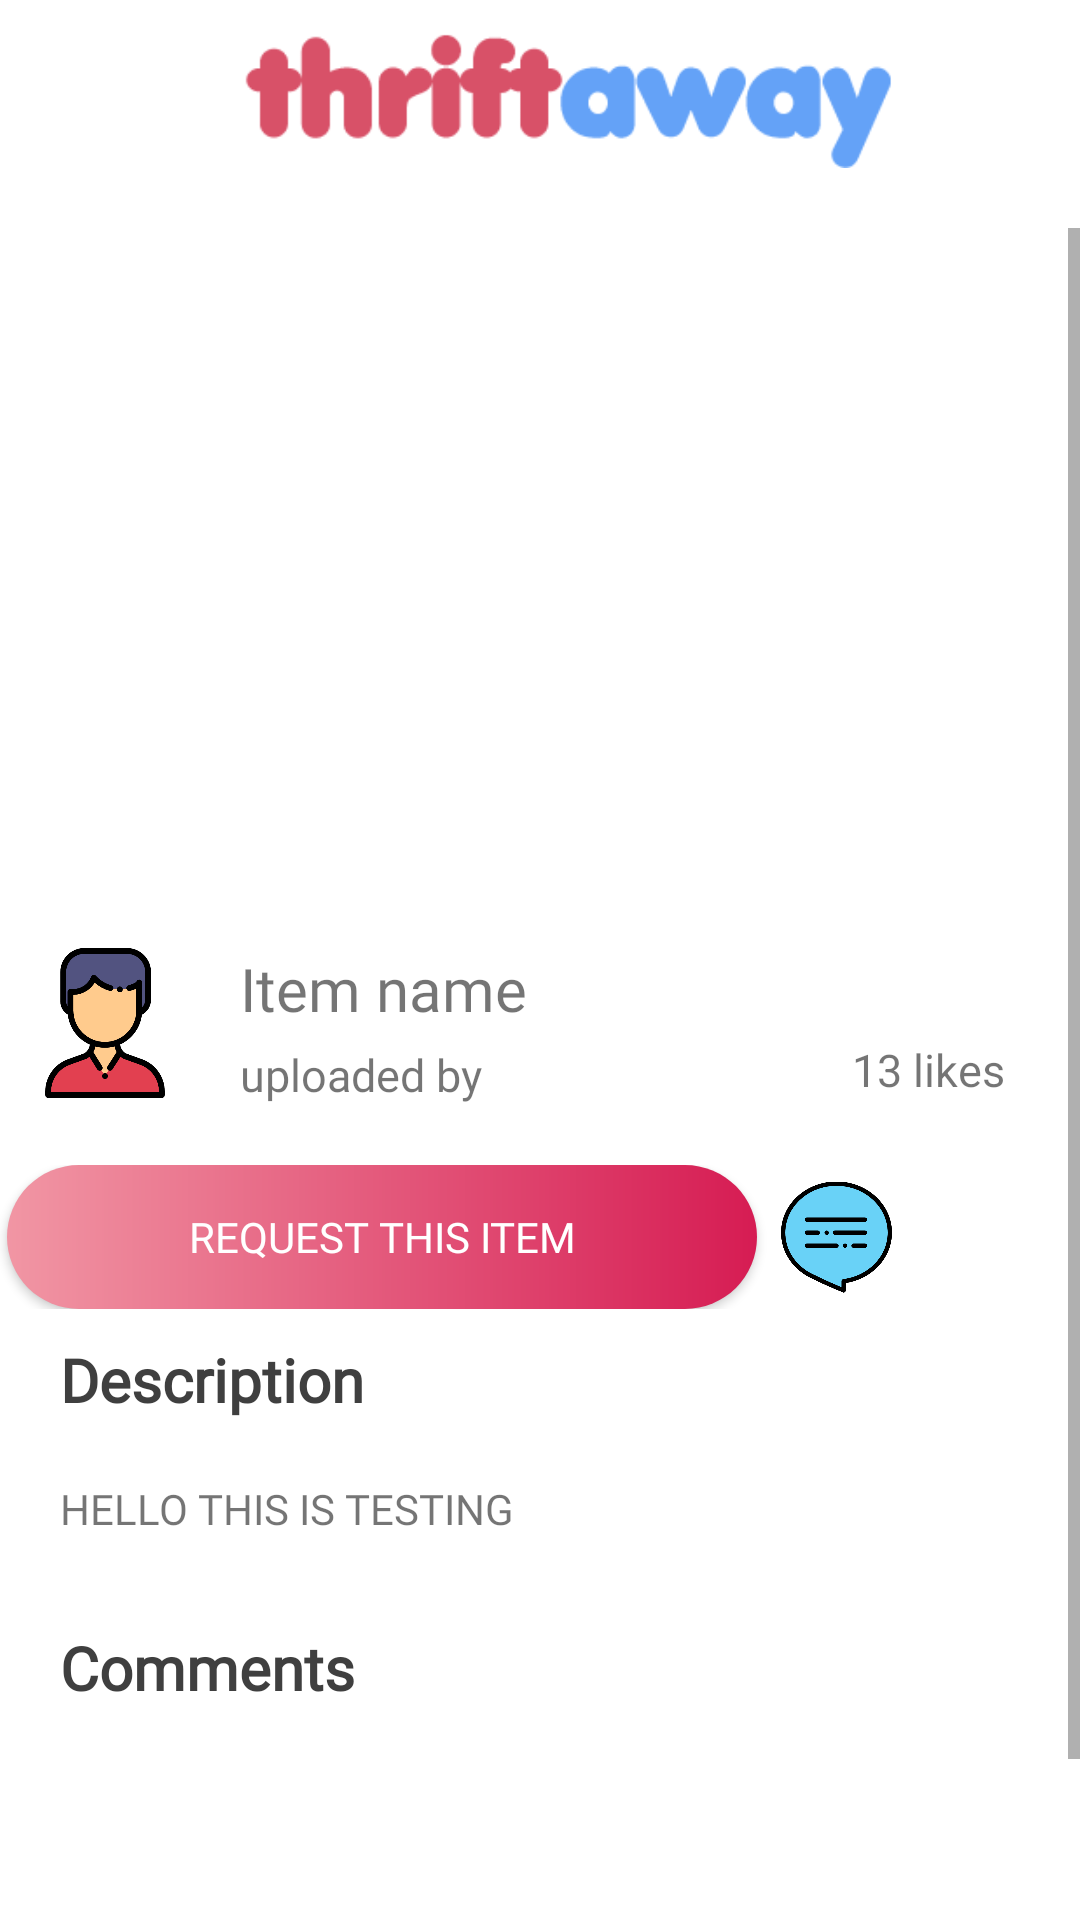

Named icons in this screenshot (1080 x 1920) and their centers, (x=x, y=y):
bubblechat: (x=836, y=1237)
